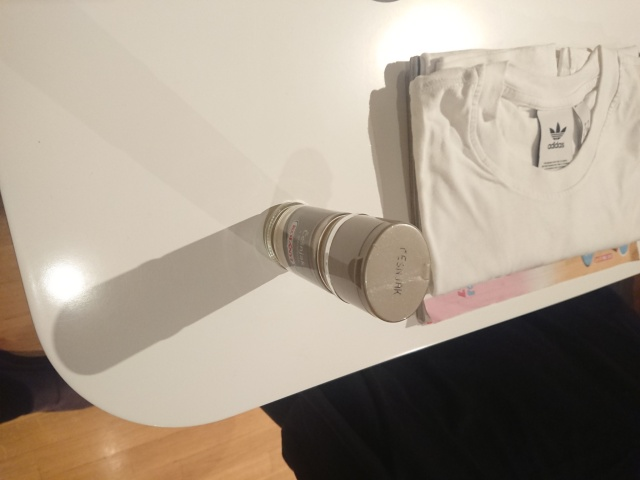Kotanyi Garlic Granules 70g: (261, 197, 434, 326)
